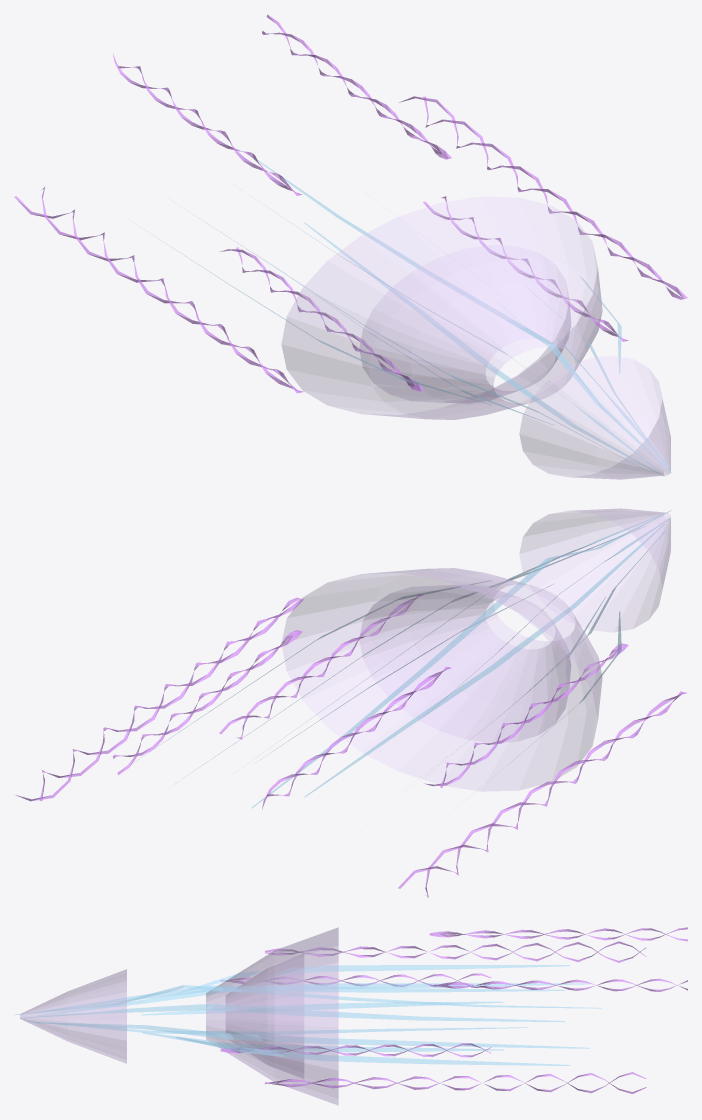
File: enemy_wind_airflow_vfx.obj
3 views of the same model, one above another, from view 1: azimuth 30°, elevation 25°; view 2: azimuth 150°, elevation 25°; view 3: azimuth 270°, elevation 25° (orthographic). The views are drawn at different scales.
Parts seen in each view (by area): view 1: mach_vapor_cone, wingtip_vortices, slipstream_ribbons; view 2: mach_vapor_cone, wingtip_vortices, slipstream_ribbons; view 3: mach_vapor_cone, slipstream_ribbons, wingtip_vortices.
Part boxes in pixels (<box>): mach_vapor_cone: <box>281,197,670,479</box>; wingtip_vortices: <box>14,14,687,393</box>; slipstream_ribbons: <box>145,160,671,476</box>; mach_vapor_cone: <box>282,508,670,791</box>; wingtip_vortices: <box>15,595,687,897</box>; slipstream_ribbons: <box>150,510,671,808</box>; mach_vapor_cone: <box>20,927,338,1105</box>; slipstream_ribbons: <box>14,965,601,1065</box>; wingtip_vortices: <box>220,927,687,1093</box>.
Size of the model in its own units: 13.52 by 6.45 by 27.4.
